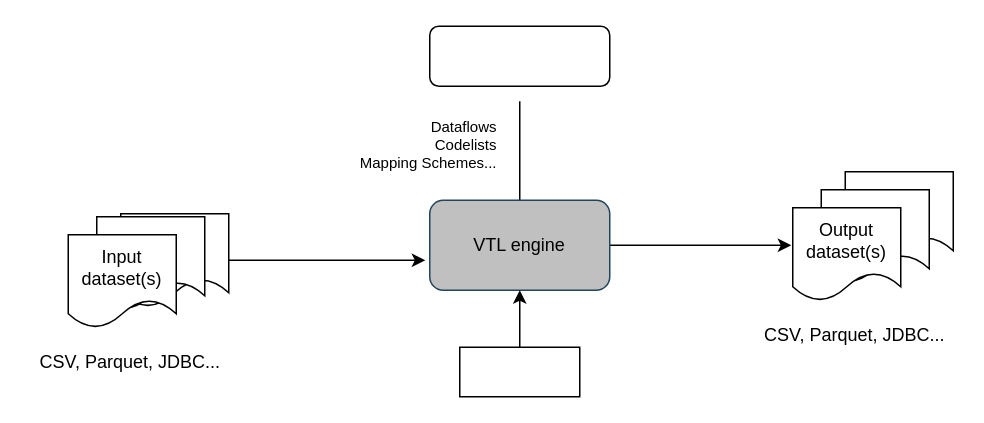
The diagram is 984 pixels wide and 423 high, and some of its shapes have lost their labels. Each missing label, with the box of its shape:
SDMX file: (428, 25, 610, 86)
VTL Code: (458, 346, 580, 397)
